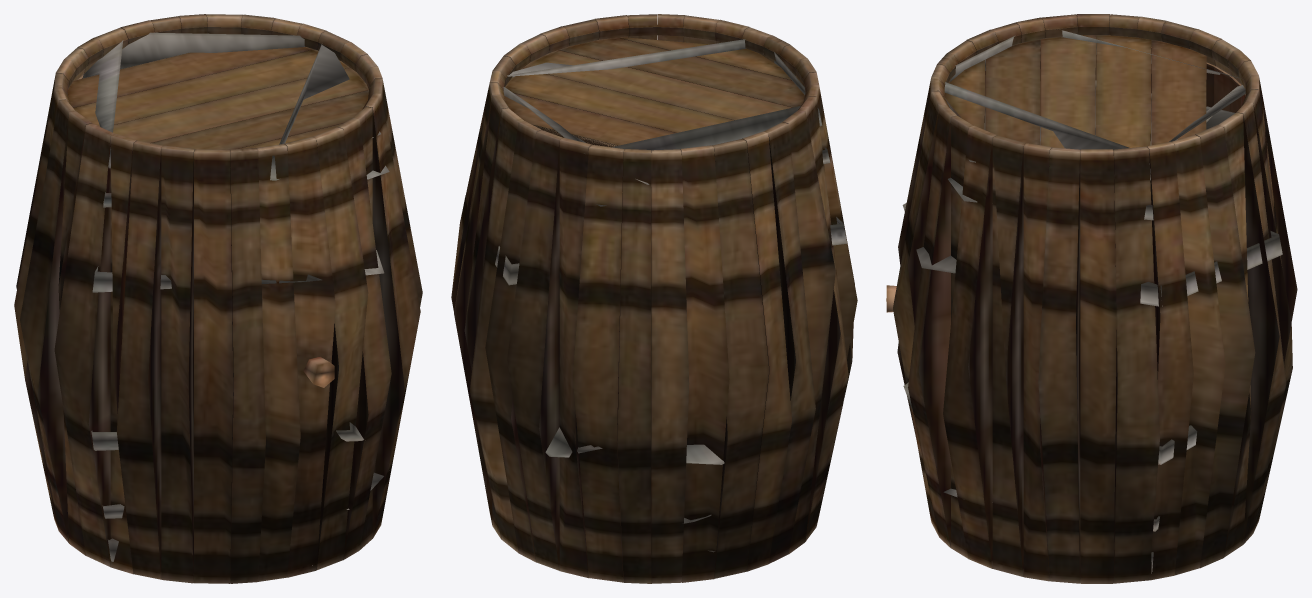
The model's file is wine_barrel_01.glb.
3 renders of one model, left to right at view 1: azimuth 30°, elevation 25°; view 2: azimuth 150°, elevation 25°; view 3: azimuth 270°, elevation 25°, orthographic.
Parts seen in each view (by area): view 1: wine_barrel_01, wine_barrel_01_Lid, wine_barrel_01_bung; view 2: wine_barrel_01, wine_barrel_01_Lid; view 3: wine_barrel_01, wine_barrel_01_Lid.
Boxes of the visible parts, x1,y1,x2,y2 form: wine_barrel_01: [14, 14, 422, 583]; wine_barrel_01_Lid: [67, 47, 368, 149]; wine_barrel_01_bung: [303, 357, 334, 387]; wine_barrel_01: [451, 14, 857, 583]; wine_barrel_01_Lid: [504, 37, 804, 147]; wine_barrel_01: [893, 14, 1297, 583]; wine_barrel_01_Lid: [944, 35, 1206, 148].
Bounding box in the file's own units: 0.7391 × 0.8695 × 0.7507.
1 material, 1 textured.
